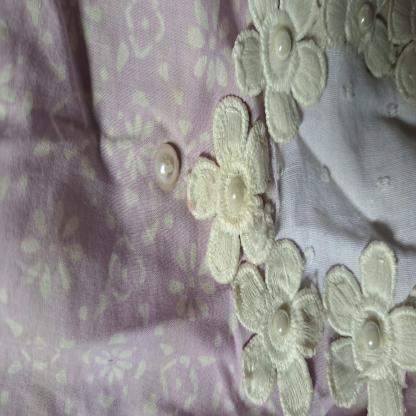spot: (168, 75, 194, 125), (183, 193, 202, 224)
